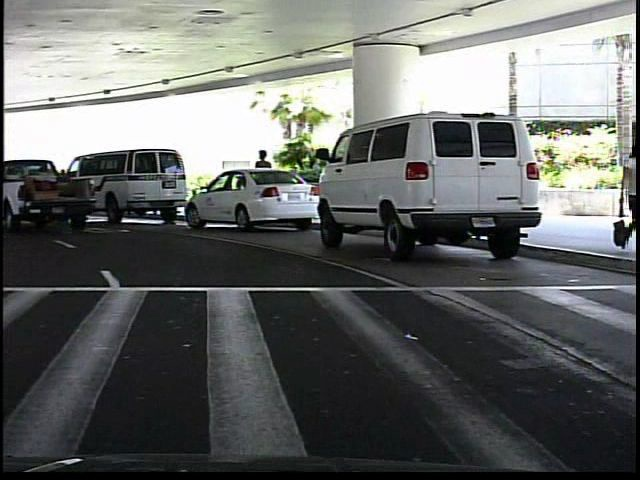person: (610, 139, 640, 253), (251, 147, 278, 218)
